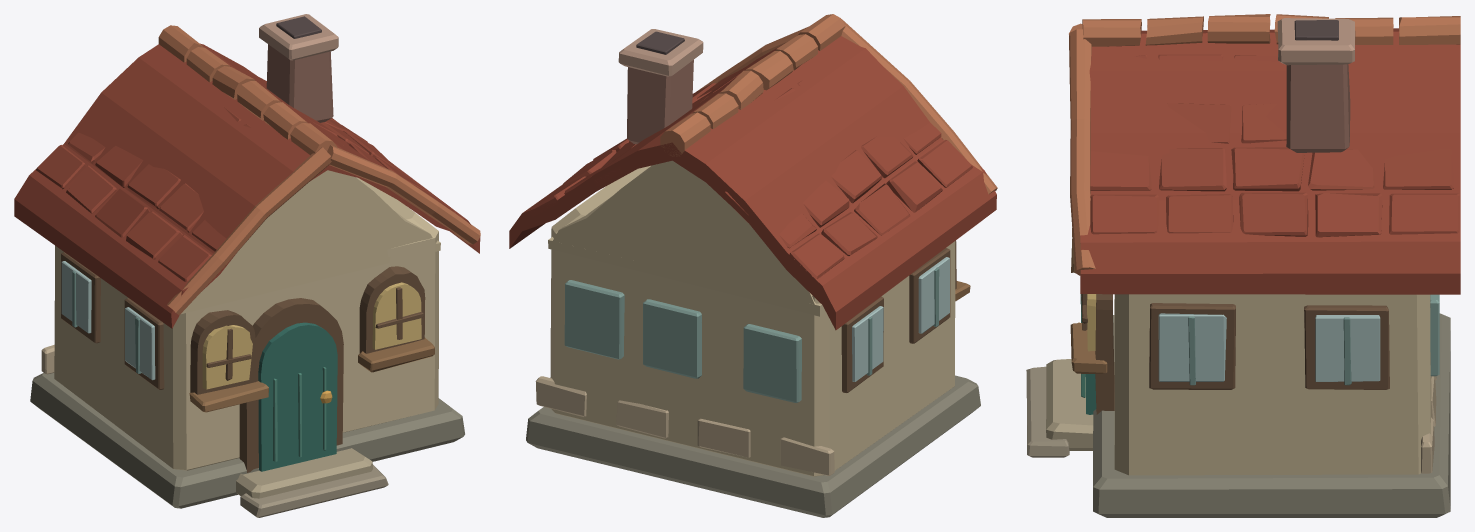
The model's file is cottage.glb.
3 renders of one model, left to right at view 1: azimuth 30°, elevation 25°; view 2: azimuth 150°, elevation 25°; view 3: azimuth 270°, elevation 25°, orthographic. The views are drawn at different scales.
Visible parts, largest first — view 1: cottage; view 2: cottage; view 3: cottage.
Part boxes in pixels (x1,y1,x2,y2): cottage: (14,14,480,517); cottage: (509,14,997,517); cottage: (1026,14,1460,517).
Bounding box in the file's own units: 2.26 × 2.54 × 2.23.
